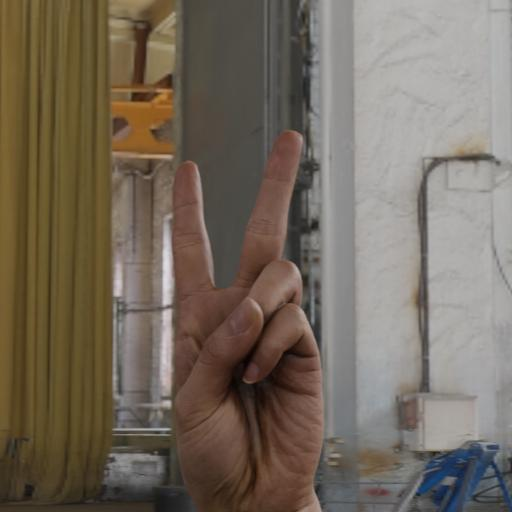V: (158, 121, 341, 512)
